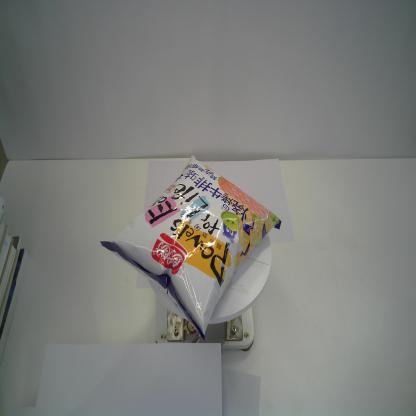Puffed Food: (99, 152, 283, 347)
